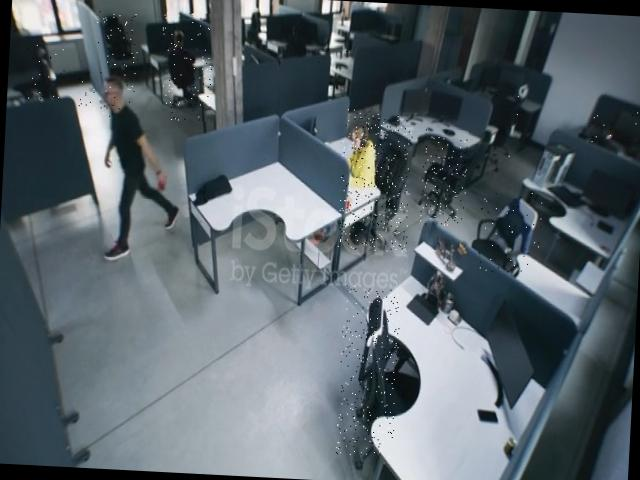empty chair: (336, 285, 402, 458), (478, 190, 542, 274), (420, 129, 469, 227), (94, 11, 140, 77), (486, 84, 520, 164), (316, 42, 353, 115), (25, 40, 67, 100)
occupiedchair: (338, 109, 413, 253), (162, 12, 216, 123), (584, 109, 640, 144)
